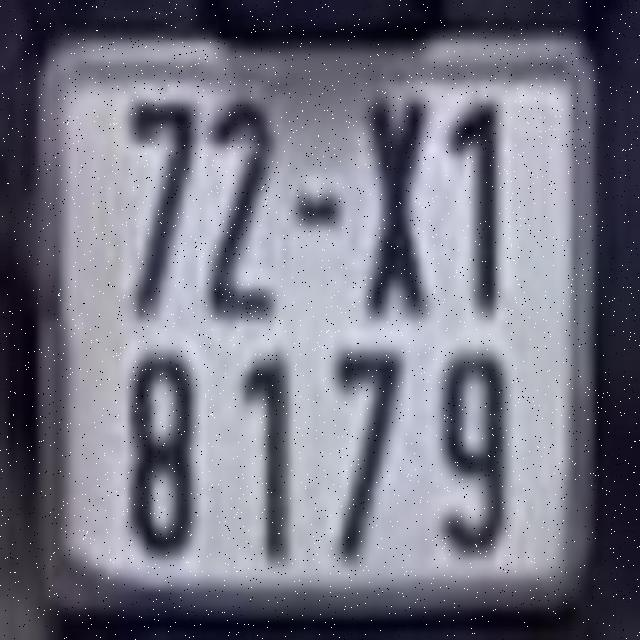1: (448, 100, 504, 316), (241, 352, 296, 563)
2: (206, 97, 276, 318)
7: (124, 97, 194, 318), (334, 344, 404, 563)
8: (130, 352, 195, 558)
9: (439, 348, 507, 556)
X: (366, 100, 428, 314)
